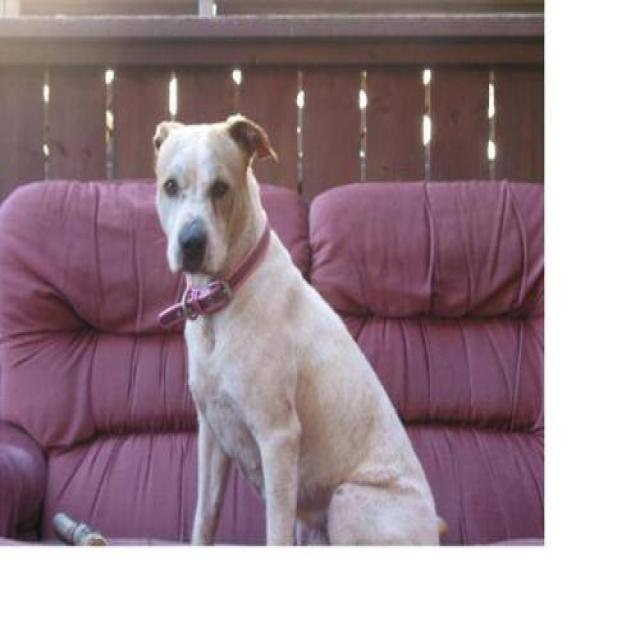dog: (151, 111, 448, 546)
